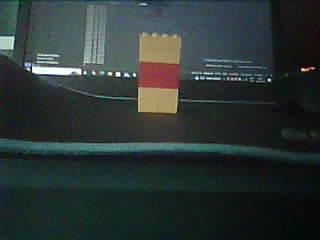lego: (137, 32, 182, 113)
